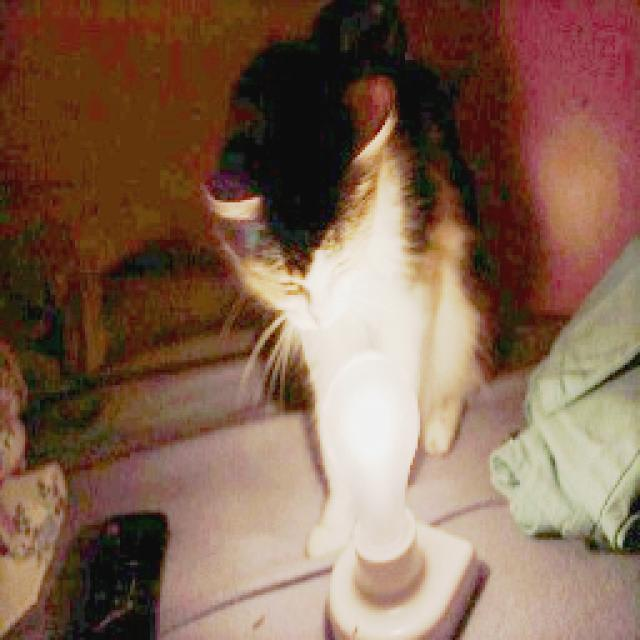cat: (198, 6, 494, 572)
